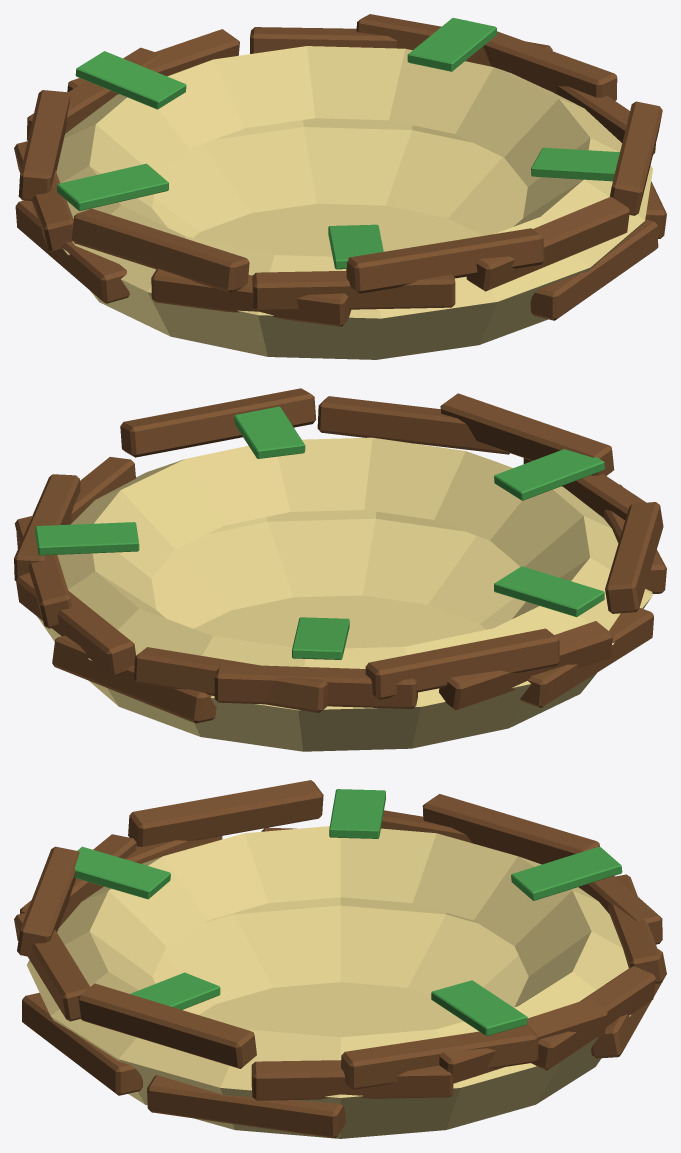
The model's file is Prop_WZ_EggNest.glb.
3 views of the same model, one above another, from view 1: azimuth 30°, elevation 25°; view 2: azimuth 150°, elevation 25°; view 3: azimuth 270°, elevation 25° (orthographic).
Parts seen in each view (by area): view 1: Prop_WZ_EggNest; view 2: Prop_WZ_EggNest; view 3: Prop_WZ_EggNest.
Boxes of the visible parts, x1=… form: Prop_WZ_EggNest: x1=14, y1=14, x2=666, y2=359; Prop_WZ_EggNest: x1=14, y1=388, x2=666, y2=751; Prop_WZ_EggNest: x1=14, y1=780, x2=666, y2=1138.
Size of what is drawn, in the model's own units: 0.5202 by 0.1309 by 0.5202.
